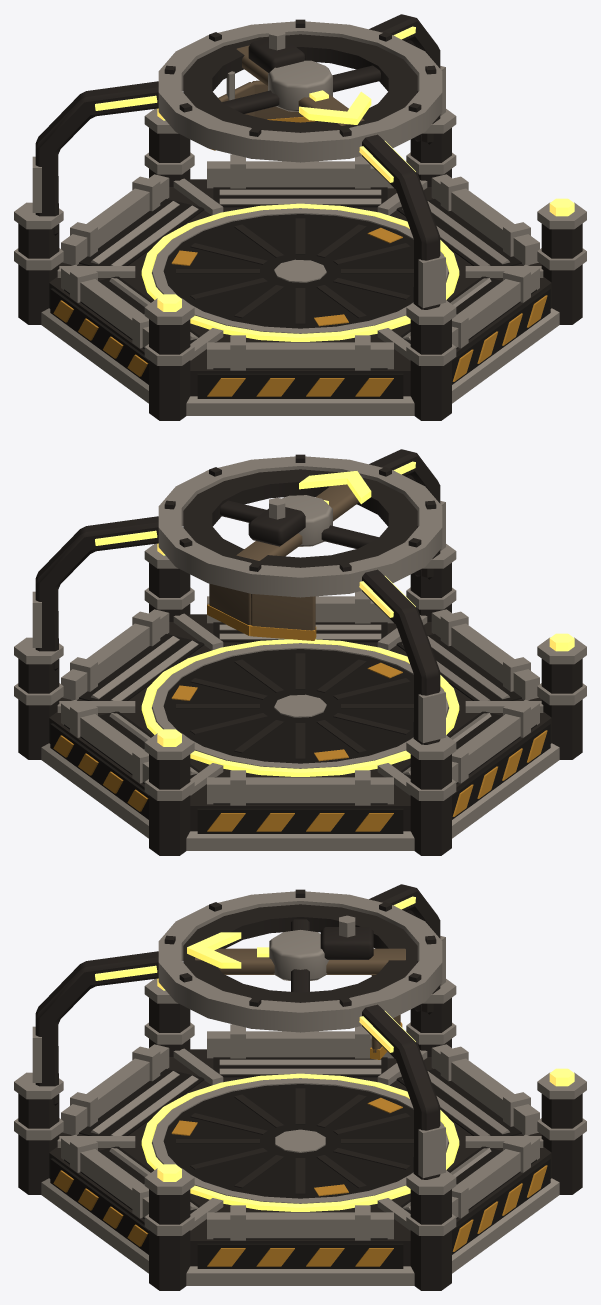
Rendered from fac_splitter.glb.
3 renders of one model, top to bottom at view 1: azimuth 30°, elevation 25°; view 2: azimuth 150°, elevation 25°; view 3: azimuth 270°, elevation 25°, orthographic.
Visible parts, largest first — view 1: base, turn, spin, gate2, gate5, gate0, gate4, gate1, gate3; view 2: base, turn, spin, gate4, gate0, gate2, gate3, gate5, gate1; view 3: base, turn, spin, gate0, gate3, gate2, gate4, gate1, gate5.
Boxes of the visible parts, box(x1,y1,x2,y2) form: base: box(14, 14, 586, 420); turn: box(163, 214, 413, 328); spin: box(183, 28, 417, 150); gate2: box(207, 335, 393, 370); gate5: box(207, 154, 393, 188); gate0: box(431, 174, 539, 265); gate4: box(61, 174, 169, 265); gate1: box(452, 264, 539, 348); gate3: box(61, 264, 148, 348); base: box(14, 449, 586, 855); turn: box(163, 649, 413, 763); spin: box(183, 469, 417, 640); gate4: box(207, 770, 393, 805); gate0: box(61, 609, 169, 700); gate2: box(431, 609, 539, 700); gate3: box(452, 699, 539, 783); gate5: box(61, 699, 148, 783); gate1: box(207, 591, 393, 623); base: box(14, 884, 586, 1290); turn: box(163, 1084, 413, 1198); spin: box(183, 904, 417, 1059); gate0: box(207, 1205, 393, 1240); gate3: box(207, 1024, 393, 1058); gate2: box(61, 1044, 169, 1135); gate4: box(431, 1044, 539, 1135); gate1: box(61, 1134, 148, 1218); gate5: box(452, 1134, 539, 1218).
Size of the model in its own units: 1.59 by 0.95 by 1.84.
